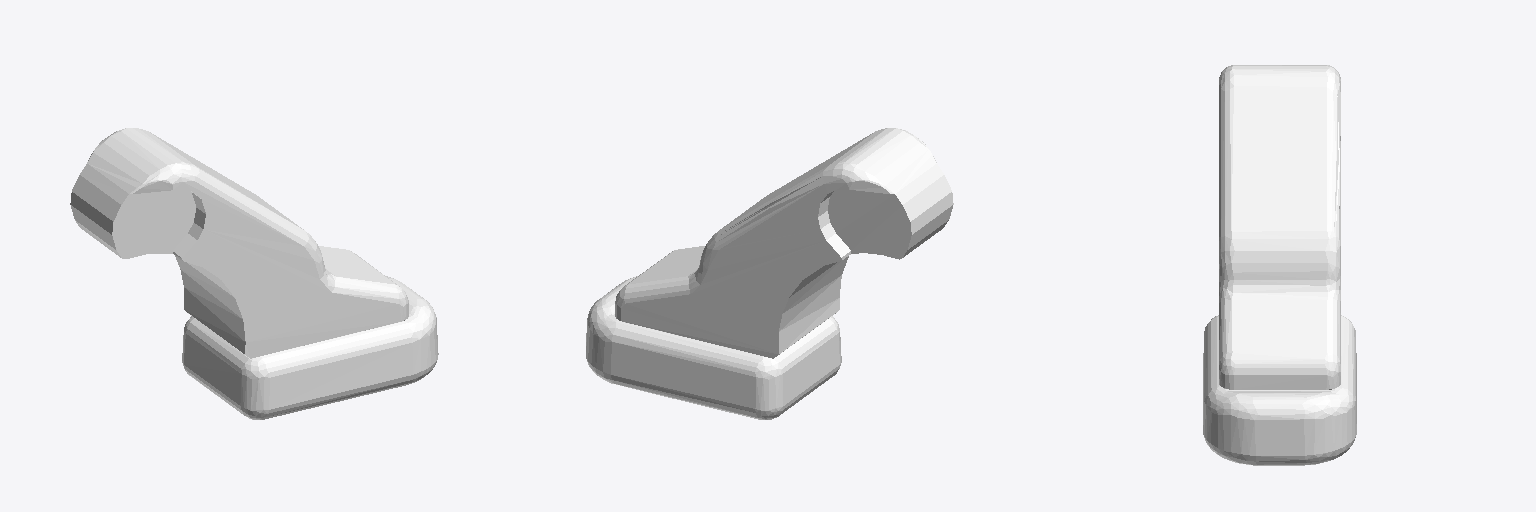
File: l_finger_tip.obj
3 renders of one model, left to right at view 1: azimuth 30°, elevation 25°; view 2: azimuth 150°, elevation 25°; view 3: azimuth 270°, elevation 25°, orthographic.
Bounding box in the file's own units: 0.5682 × 0.4474 × 0.2297.